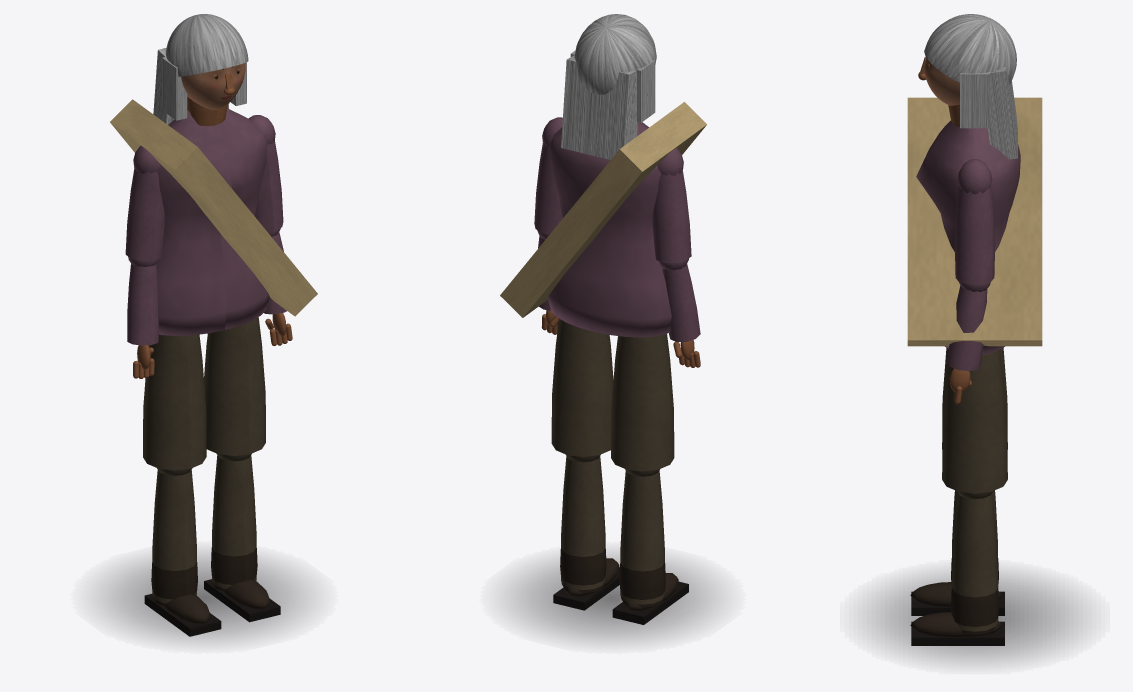
File: npc_settler_b.glb
3 renders of one model, left to right at view 1: azimuth 30°, elevation 25°; view 2: azimuth 150°, elevation 25°; view 3: azimuth 270°, elevation 25°, orthographic. The views are drawn at different scales.
Visible parts, largest first — view 1: chest, object 11, head, legL, legR, shinL, shinR, armL, foreL, armR, foreR; view 2: chest, head, object 11, legL, legR, shinL, shinR, armL, foreL, armR; view 3: chest, object 11, head, shinR, legR, armR, foreR, shinL, legL.
Boxes of the visible parts, left/top/right/bottom form: chest: left=110, top=97, right=317, bottom=335; object 11: left=98, top=552, right=310, bottom=642; head: left=153, top=14, right=248, bottom=124; legL: left=143, top=334, right=206, bottom=470; legR: left=204, top=317, right=265, bottom=455; shinL: left=144, top=468, right=221, bottom=636; shinR: left=204, top=453, right=280, bottom=622; armL: left=125, top=145, right=164, bottom=261; foreL: left=127, top=256, right=158, bottom=378; armR: left=248, top=115, right=283, bottom=232; foreR: left=264, top=228, right=292, bottom=345; chest: left=500, top=102, right=706, bottom=337; head: left=561, top=14, right=656, bottom=159; object 11: left=507, top=553, right=719, bottom=642; legL: left=611, top=334, right=674, bottom=471; legR: left=551, top=318, right=613, bottom=456; shinL: left=612, top=469, right=688, bottom=624; shinR: left=553, top=454, right=619, bottom=610; armL: left=652, top=148, right=691, bottom=262; foreL: left=659, top=258, right=700, bottom=367; armR: left=534, top=117, right=562, bottom=234; chest: left=907, top=97, right=1042, bottom=355; object 11: left=867, top=572, right=1082, bottom=662; head: left=918, top=14, right=1017, bottom=159; shinR: left=910, top=491, right=1004, bottom=645; legR: left=942, top=350, right=1007, bottom=493; armR: left=954, top=159, right=995, bottom=284; foreR: left=947, top=282, right=990, bottom=404; shinL: left=910, top=490, right=1004, bottom=615; legL: left=942, top=348, right=1007, bottom=449.
Size of the model in its own units: 0.77 by 1.79 by 0.77.
6 materials, 5 textured.
